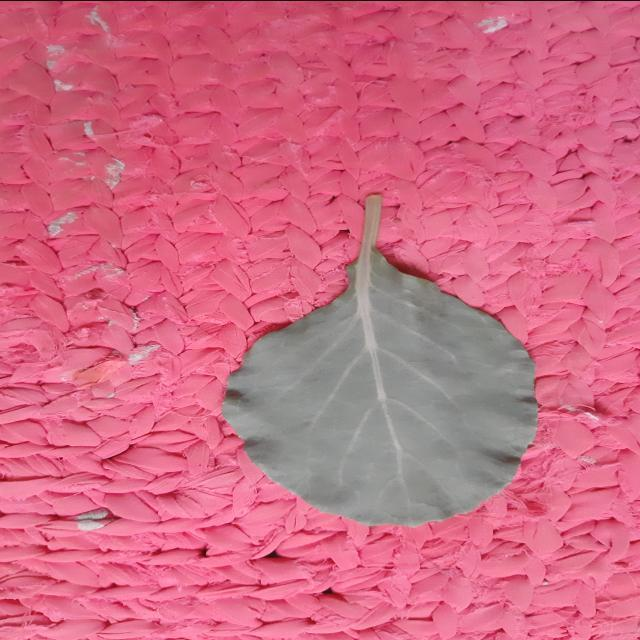leaf: (0, 0, 639, 639), (219, 192, 539, 527)
